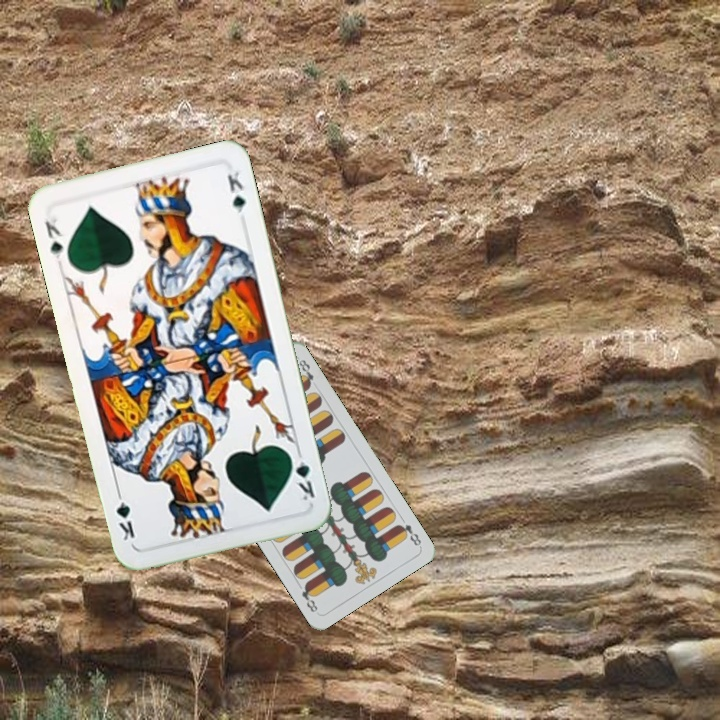E8: (393, 520, 424, 549)
GK: (285, 446, 317, 503), (41, 214, 66, 267)
